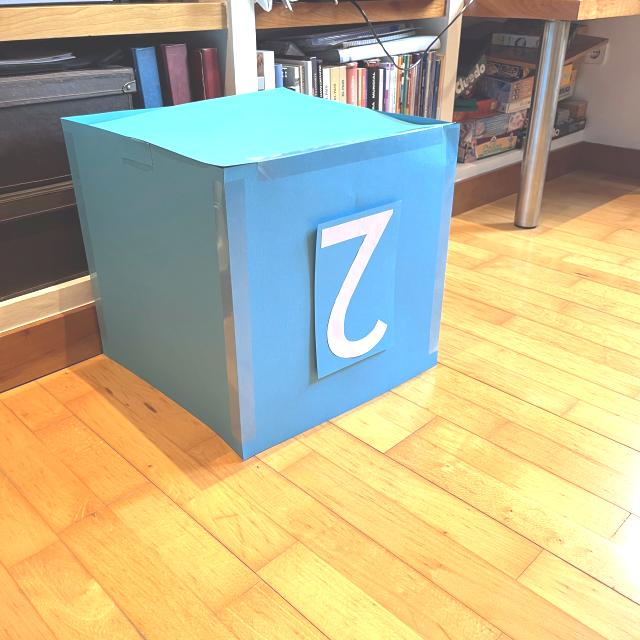box: (59, 84, 464, 462)
